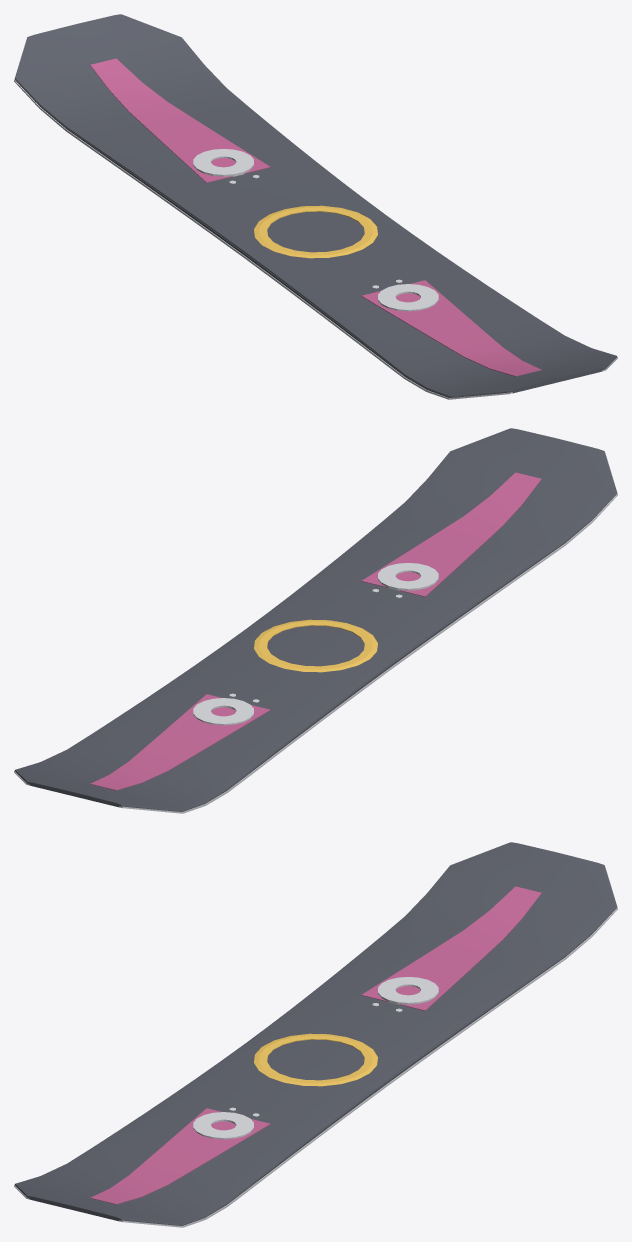
File: snowboard-gear-and-freestyle-riders-park-jib-board-0219da2d__27141.glb
The picture shows the model from 3 angles, top to bottom: view 1: azimuth 30°, elevation 25°; view 2: azimuth 150°, elevation 25°; view 3: azimuth 330°, elevation 25°; orthographic projection.
Parts seen in each view (by area): view 1: park-jib-board; view 2: park-jib-board; view 3: park-jib-board.
Part boxes in pixels (box(x1,y1,x2,y2)): park-jib-board: box(14, 14, 617, 399); park-jib-board: box(14, 428, 617, 813); park-jib-board: box(14, 842, 617, 1227).
Bounding box in the file's own units: 0.2906 × 0.0628 × 1.44.
